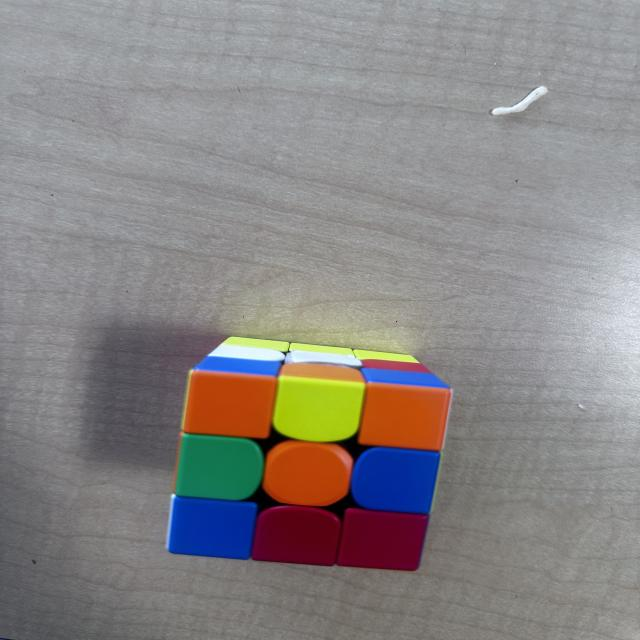sticker: (194, 372, 272, 436), (369, 388, 448, 450), (182, 435, 259, 498), (272, 443, 349, 505), (282, 380, 359, 441), (177, 496, 252, 558), (347, 512, 421, 573), (264, 509, 338, 566), (360, 452, 435, 508)
